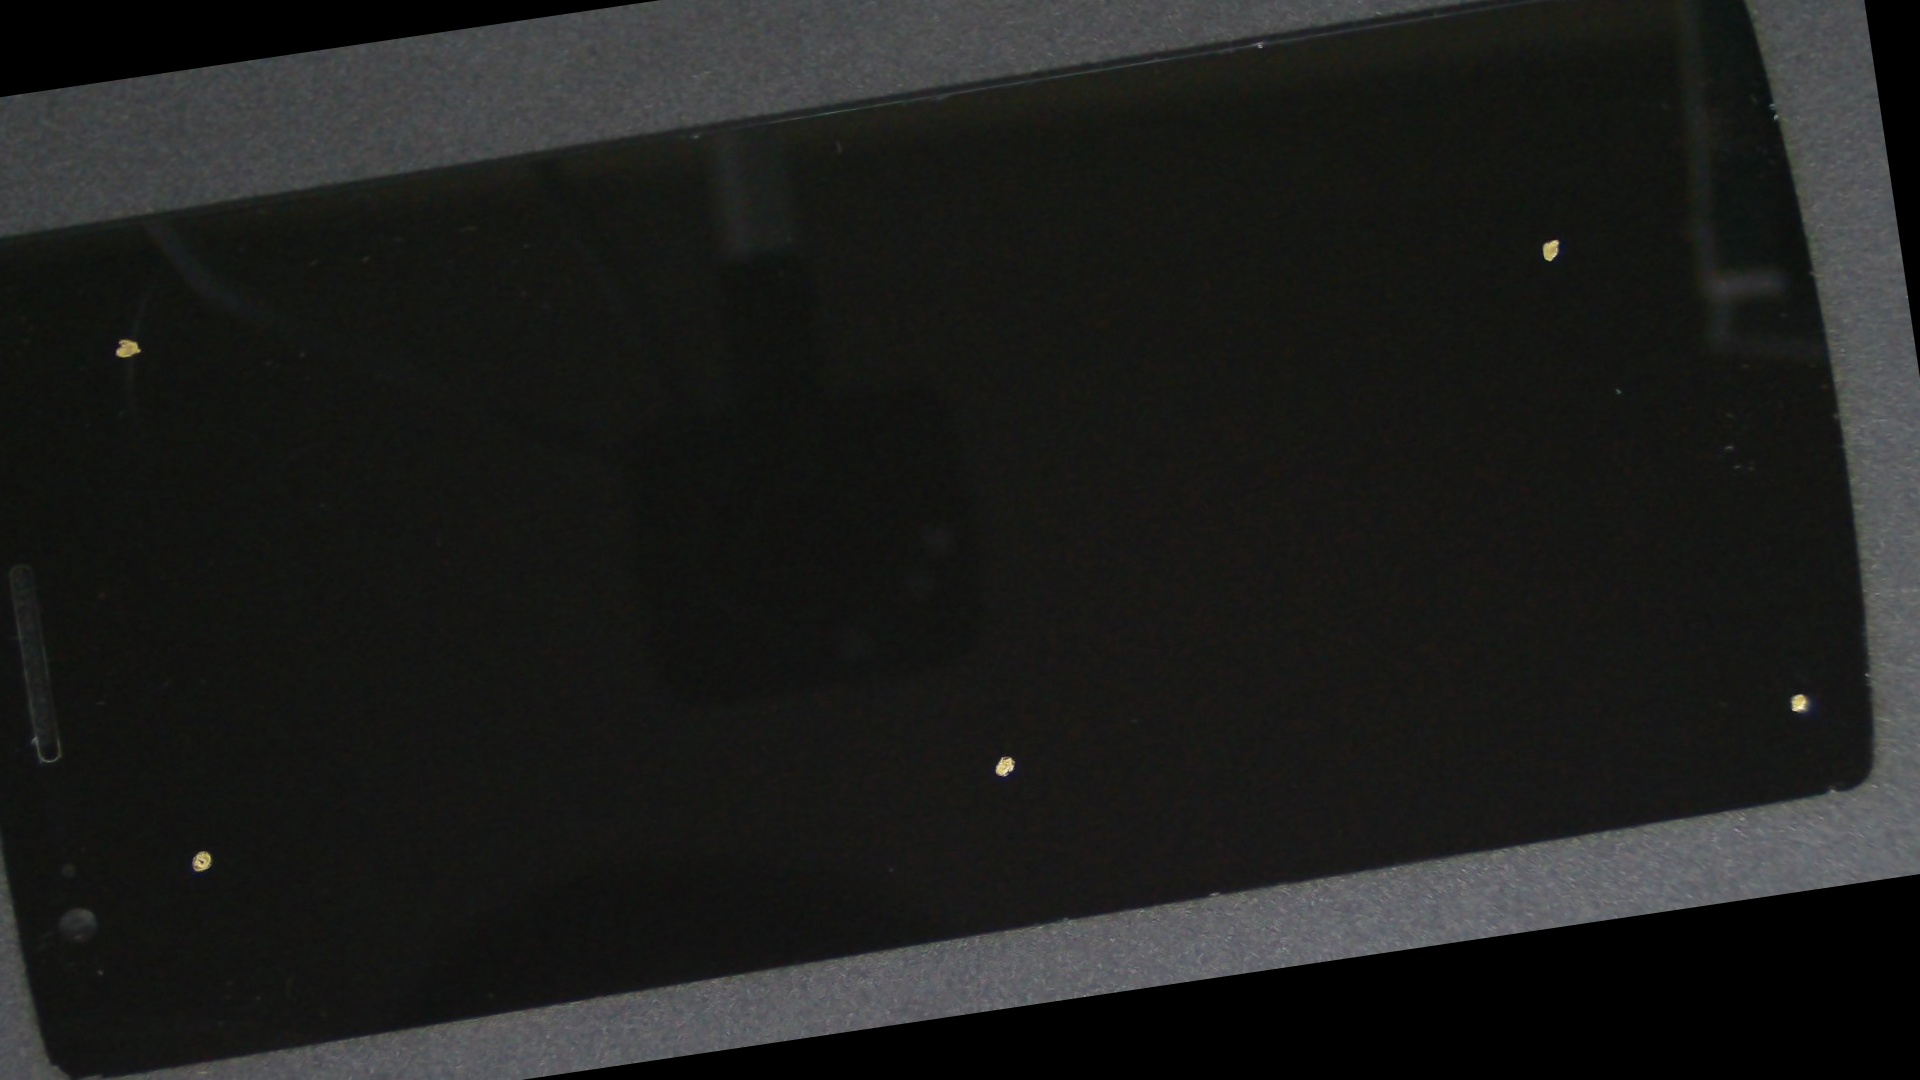oil: (388, 278, 1590, 1080), (785, 247, 1920, 1027), (663, 8, 1919, 549), (0, 444, 392, 1080), (0, 189, 293, 488)
